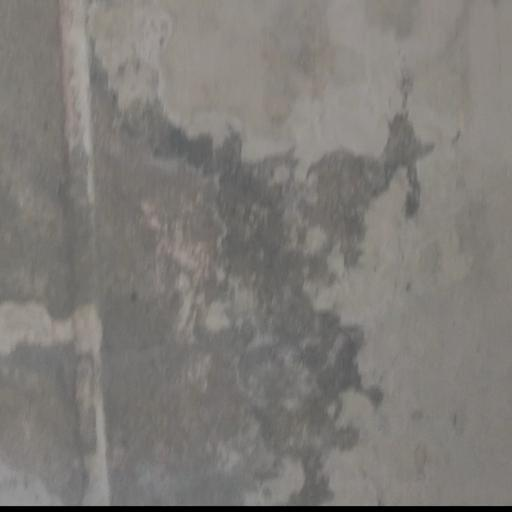peeling: (0, 0, 452, 511)
